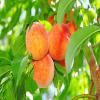Peach leaf: (28, 10, 46, 32), (24, 75, 40, 99), (53, 66, 64, 96), (13, 33, 26, 56), (82, 45, 91, 62)
